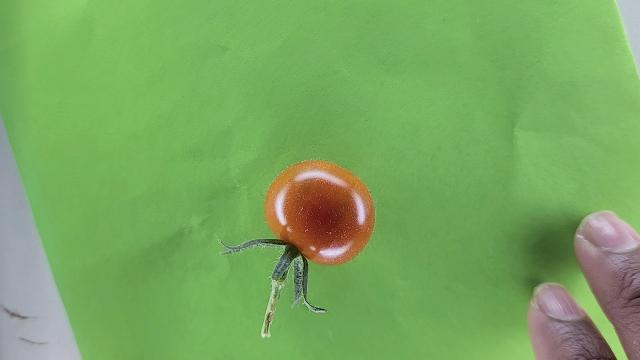Fully Grown: (262, 160, 376, 266)
